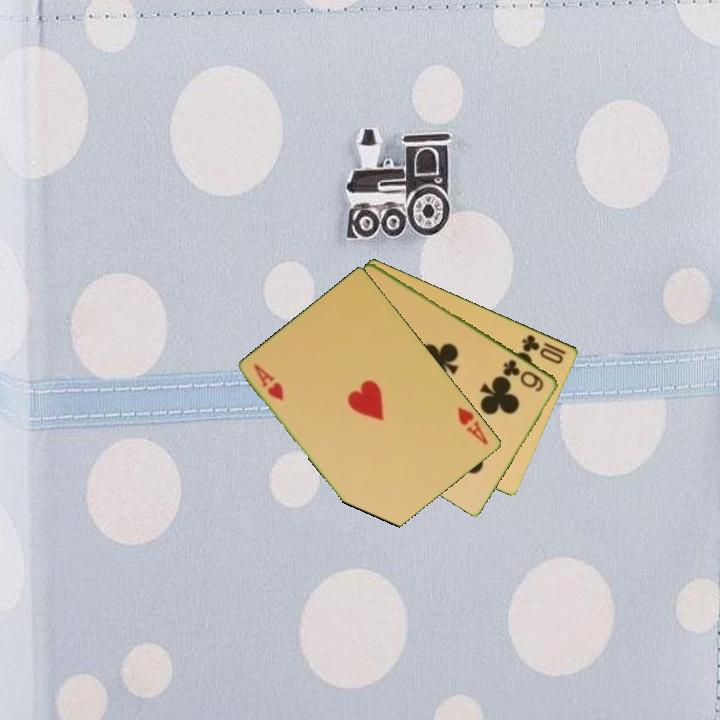10c: (518, 331, 569, 367)
6c: (500, 356, 547, 395)
Ah: (454, 403, 492, 448), (250, 360, 287, 404)
